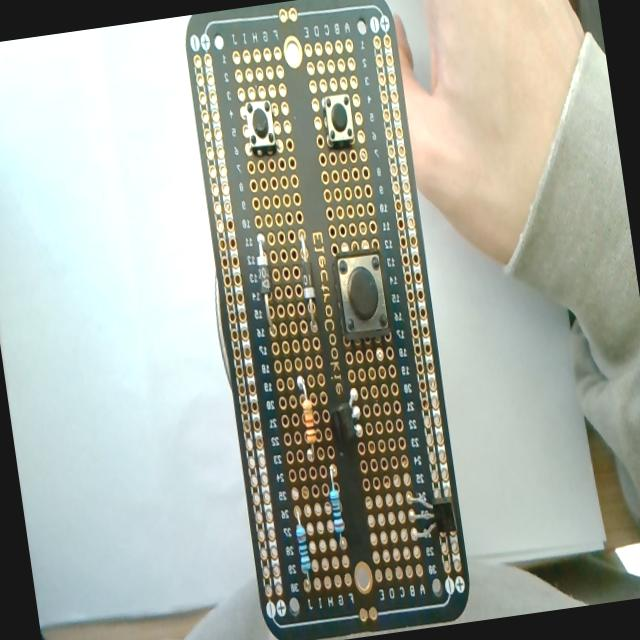diode: (253, 233, 280, 341), (294, 228, 320, 334)
resistor: (296, 378, 320, 462), (292, 508, 313, 580), (326, 466, 346, 538)
switch: (332, 248, 392, 342), (243, 96, 279, 156), (322, 91, 358, 150)
transistor: (403, 484, 460, 556), (326, 379, 368, 454)
